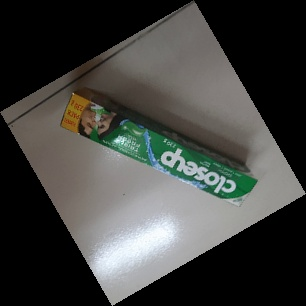CloseUp Xanh: (58, 88, 260, 210)
